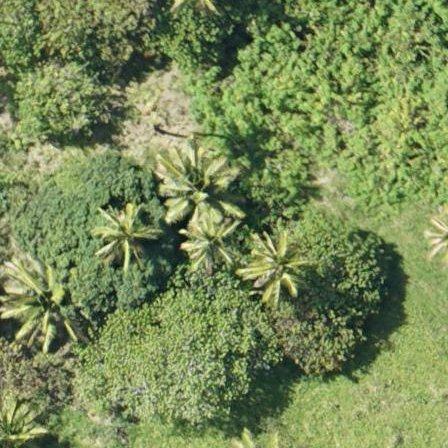palm_tree: (1, 257, 77, 336), (159, 145, 239, 214), (182, 212, 248, 272), (95, 207, 159, 266), (245, 235, 306, 295), (234, 439, 279, 448)
